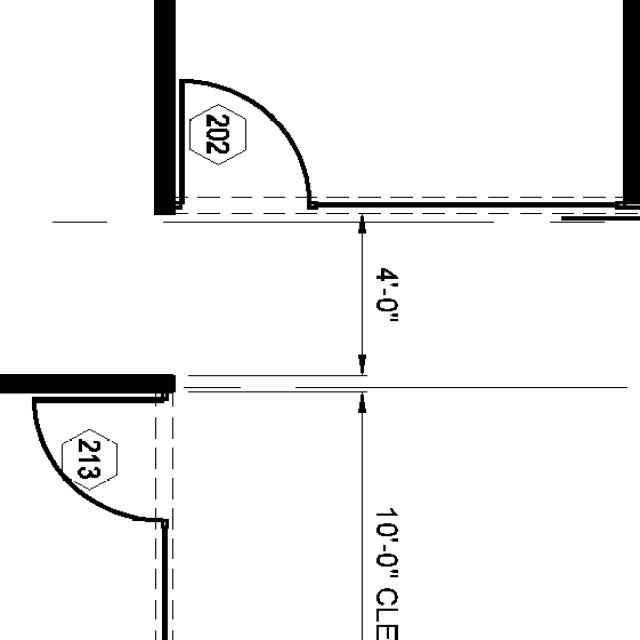Doors: (24, 393, 178, 530), (180, 78, 324, 216)
